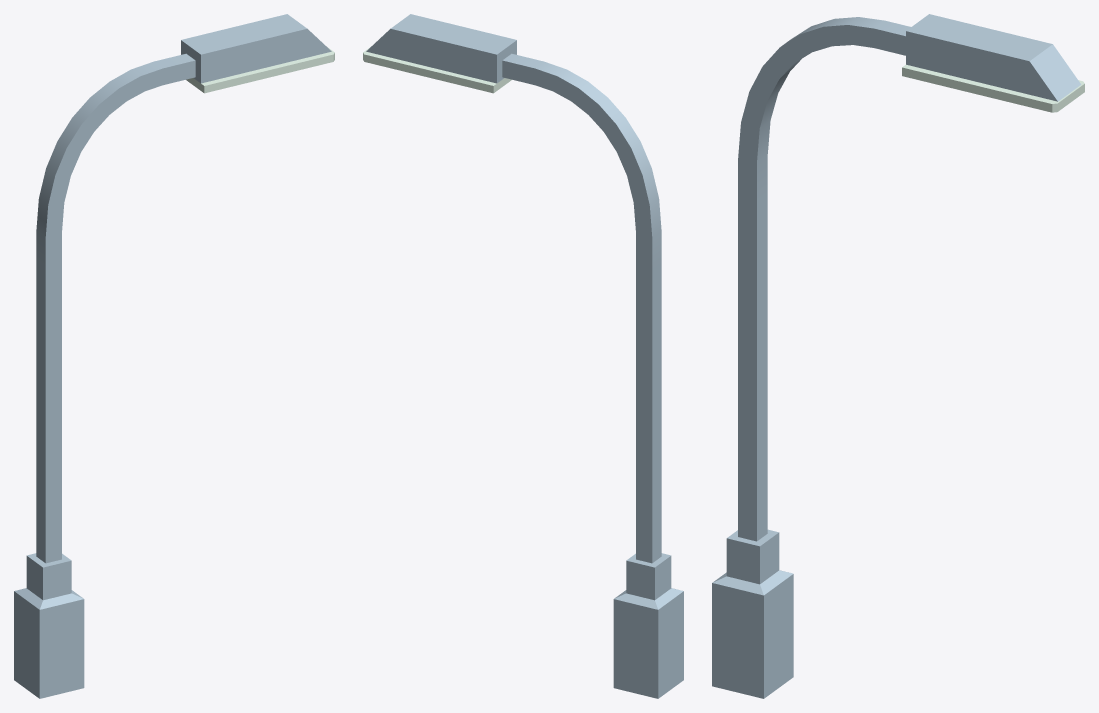
File: streetlight_05.fbx
3 views of the same model, side by side, from view 1: azimuth 30°, elevation 25°; view 2: azimuth 150°, elevation 25°; view 3: azimuth 330°, elevation 25° (orthographic). The views are drawn at different scales.
Visible parts, largest first — view 1: streetlight_05; view 2: streetlight_05; view 3: streetlight_05.
Boxes of the visible parts, bbox=[...] form: streetlight_05: bbox=[14, 14, 334, 698]; streetlight_05: bbox=[363, 14, 683, 698]; streetlight_05: bbox=[712, 14, 1084, 698].
Size of the model in its own units: 3.57 by 6.94 by 0.5602.
